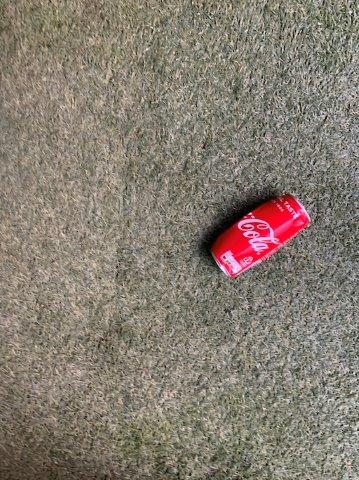kaleng: (211, 196, 310, 275)
